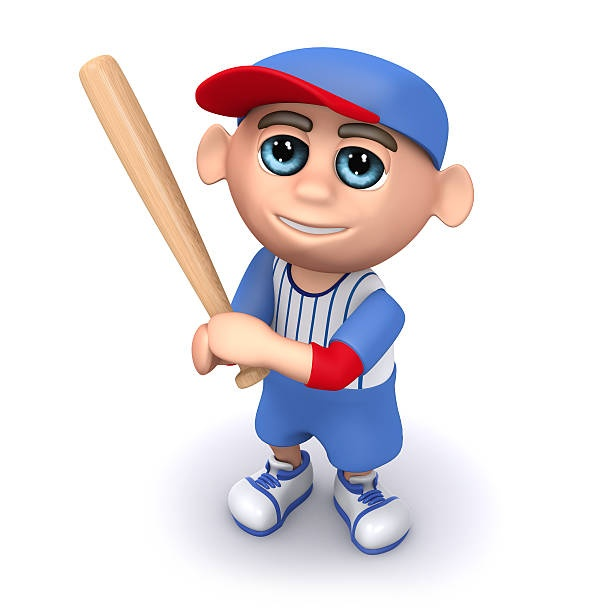bita: (74, 52, 264, 378)
